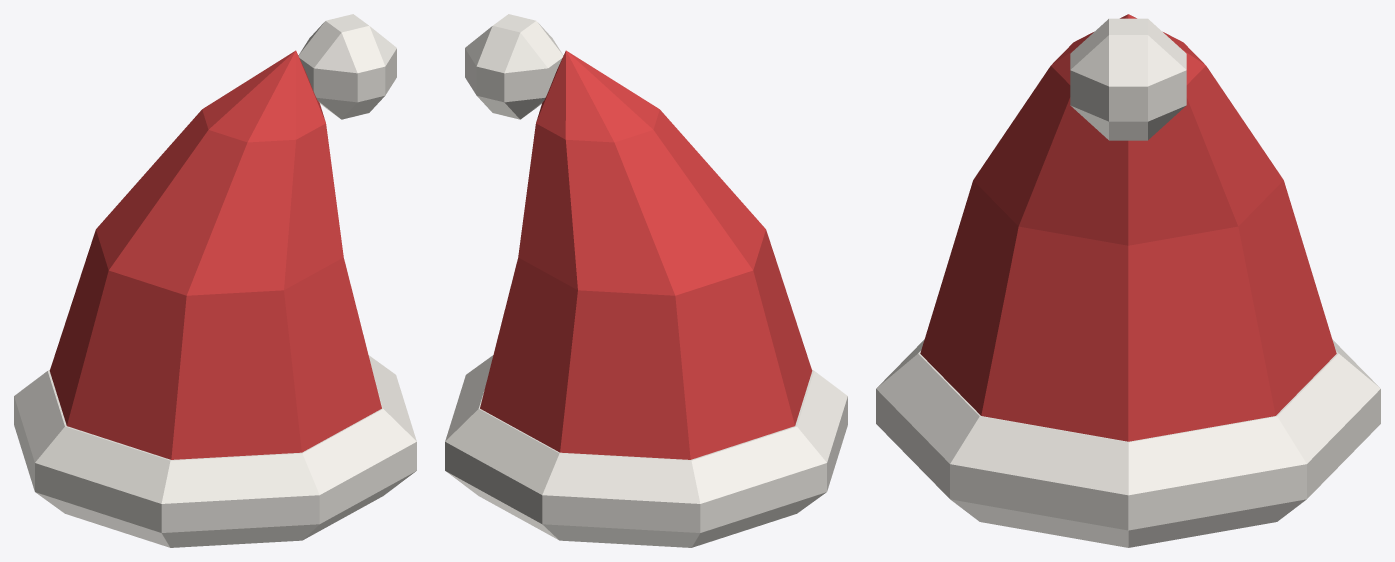
The model's file is SantaHat.fbx.
The picture shows the model from 3 angles, left to right: view 1: azimuth 30°, elevation 25°; view 2: azimuth 150°, elevation 25°; view 3: azimuth 270°, elevation 25°; orthographic projection. The views are drawn at different scales.
Visible parts, largest first — view 1: SantaHat; view 2: SantaHat; view 3: SantaHat.
Boxes of the visible parts, left/top/right/bottom form: SantaHat: left=14, top=14, right=416, bottom=547; SantaHat: left=445, top=14, right=847, bottom=547; SantaHat: left=876, top=14, right=1380, bottom=547.
Size of the model in its own units: 2.6 by 2.9 by 2.6.
Materials: 1 (1 with a texture image).
